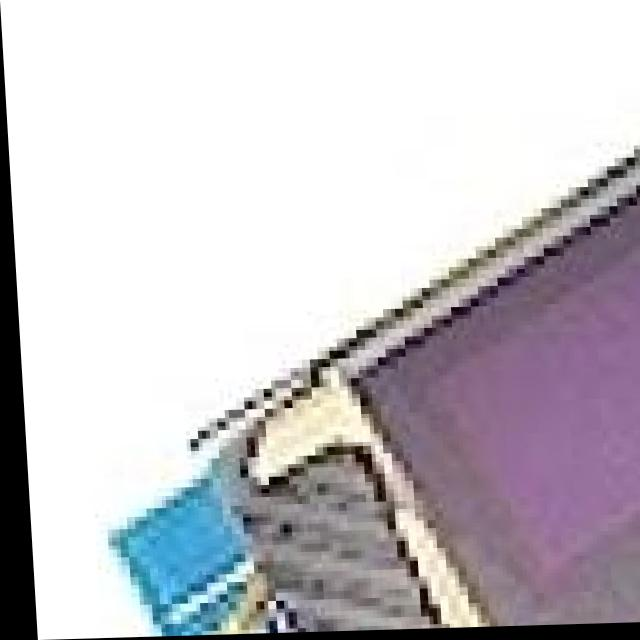display: (142, 118, 640, 635)
